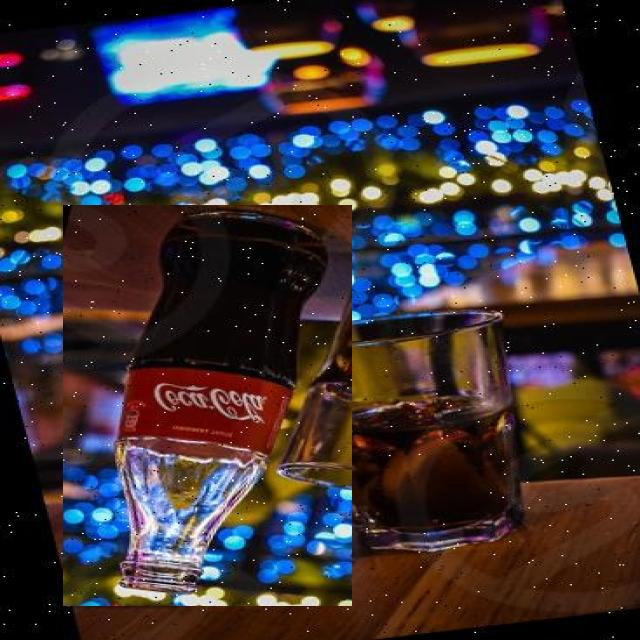coca-cola: (63, 205, 352, 606)
